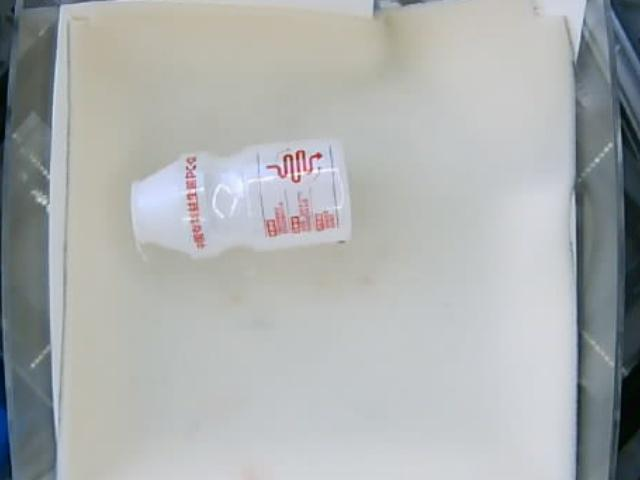Bottle: (130, 135, 349, 259)
